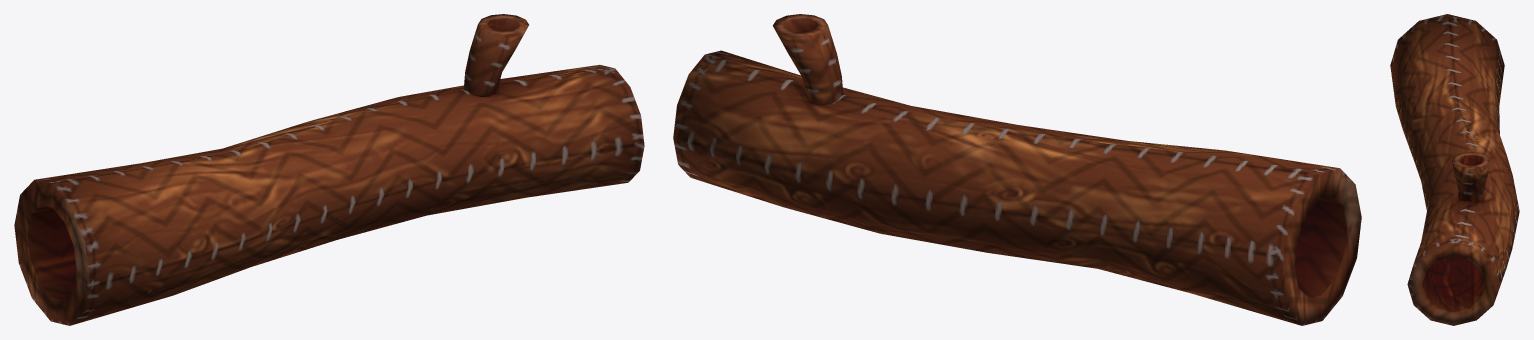
Rendered from lpb_cs_Trunk.fbx.
3 renders of one model, left to right at view 1: azimuth 30°, elevation 25°; view 2: azimuth 150°, elevation 25°; view 3: azimuth 270°, elevation 25°, orthographic. The views are drawn at different scales.
Parts seen in each view (by area): view 1: lpb_cs_Trunk; view 2: lpb_cs_Trunk; view 3: lpb_cs_Trunk.
Part boxes in pixels (box(x1,y1,x2,y2)): lpb_cs_Trunk: box(14, 14, 644, 325); lpb_cs_Trunk: box(673, 14, 1361, 325); lpb_cs_Trunk: box(1390, 14, 1519, 325).
Bounding box in the file's own units: 79.39 × 22.9 × 20.58.
